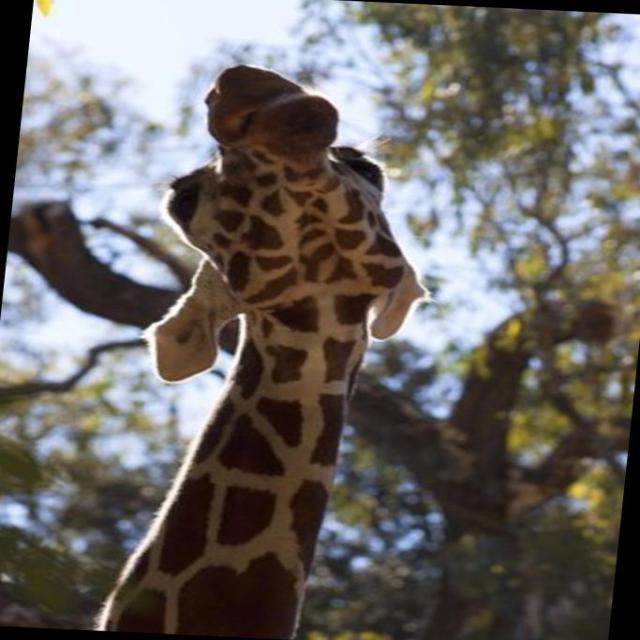Giraffe: (54, 61, 461, 640)
